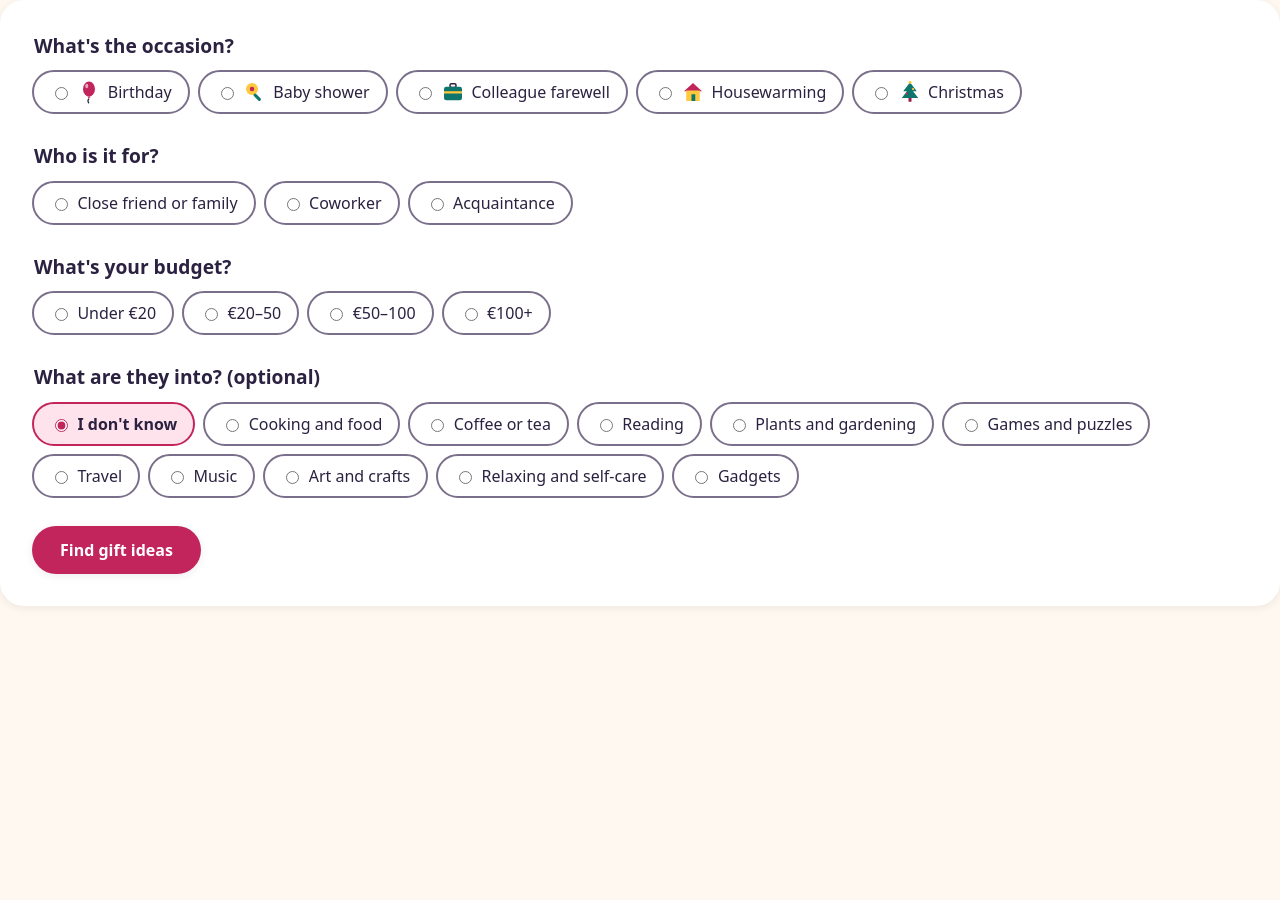
Test case: GiftQuizForm › clears a question's error once it is answered
The image size is (1280, 900).
Click the button "Find gift ideas". click: (116, 550)
box: [32,526,201,574]
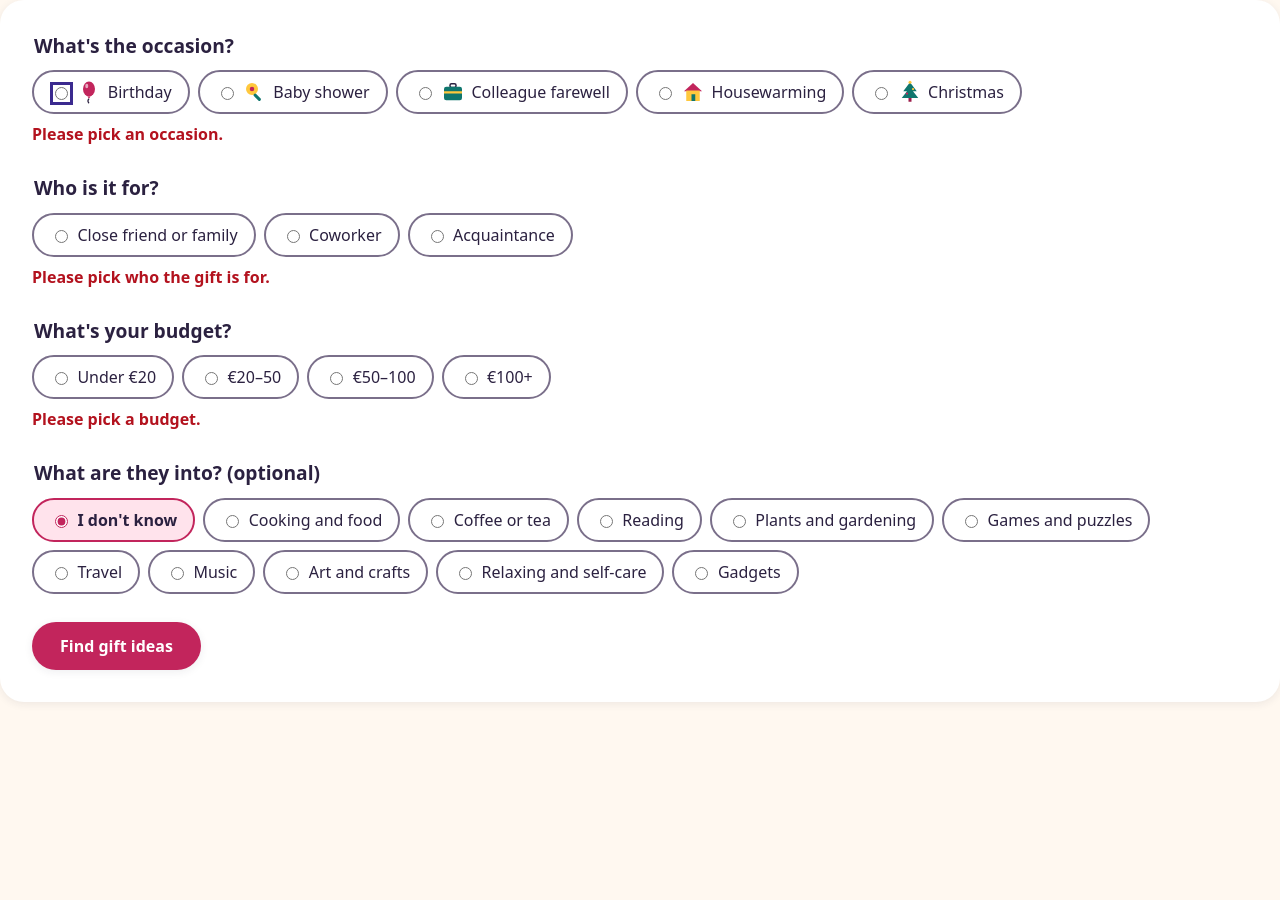
Click the radio button labelled "Christmas". click: (882, 94)
box: [875,87,888,100]
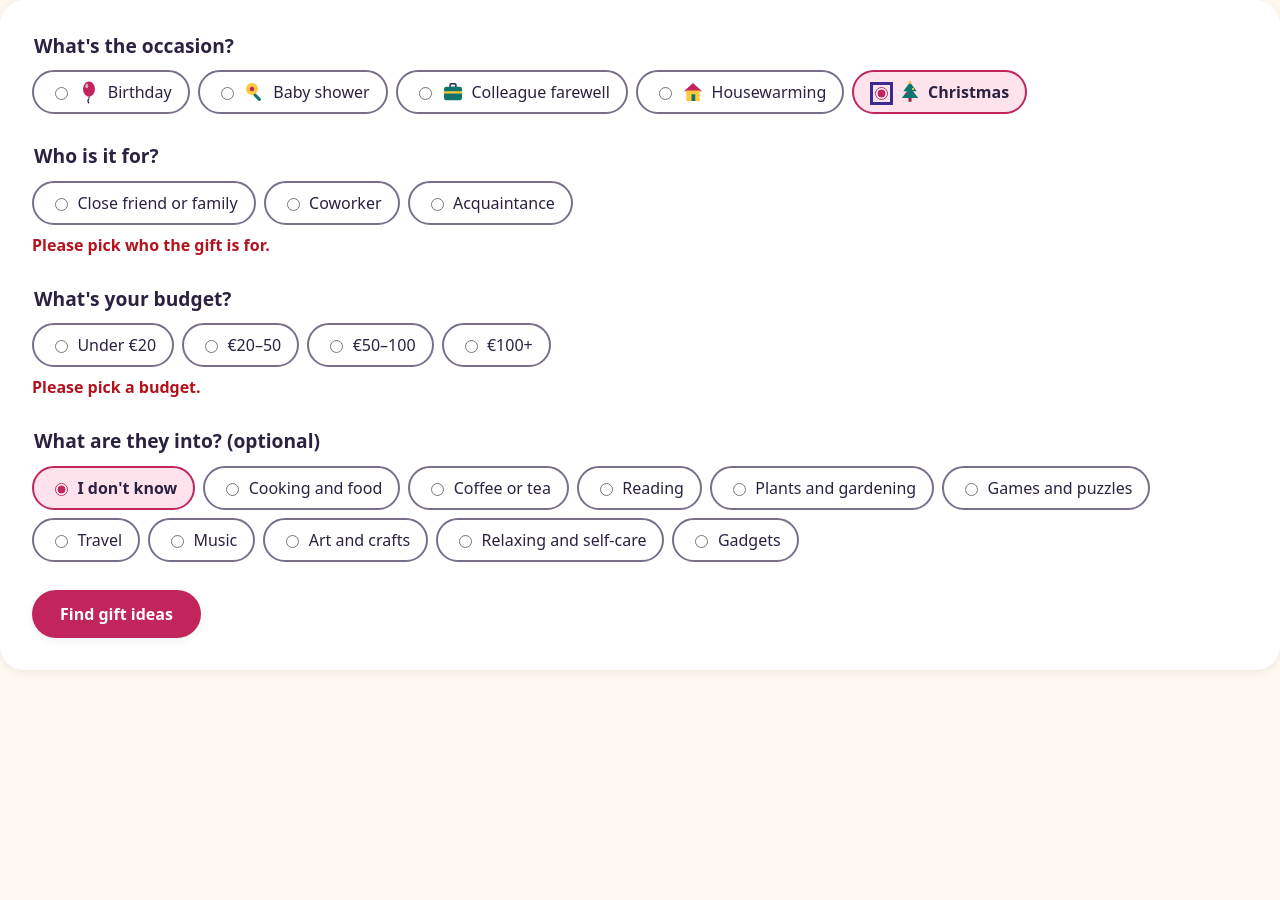
expect the text "Please pick a budget." is shown: met, box [32,376,201,398]
expect the text "Please pick an occasion." is gone: met
